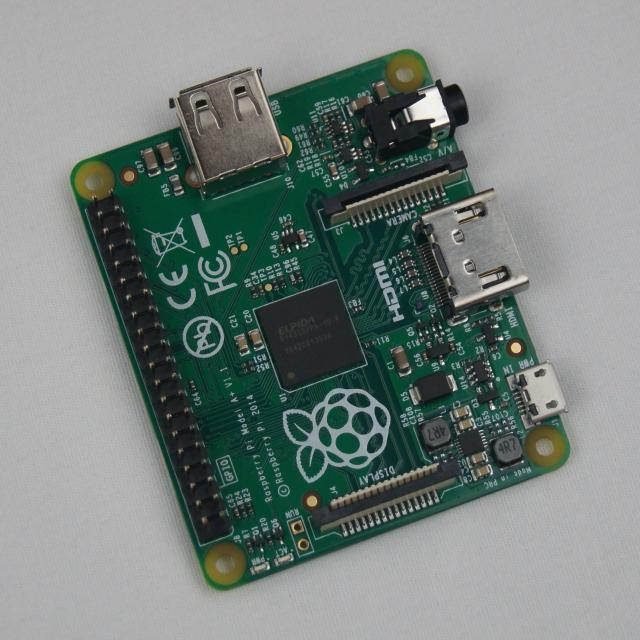Raspberry-Pi-1-A-: (72, 52, 569, 588)
